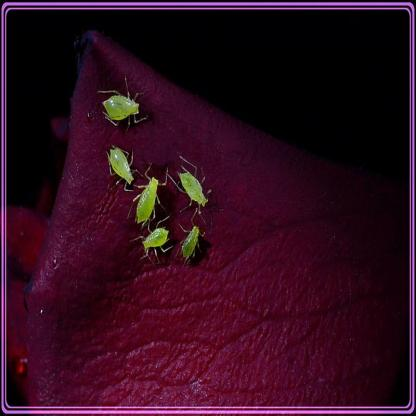aphid: (167, 153, 219, 221), (97, 75, 148, 131), (133, 158, 167, 228), (102, 144, 141, 192), (132, 223, 174, 263), (178, 215, 207, 264)
